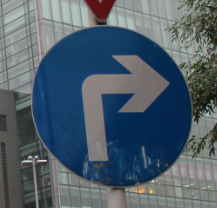right_turn: (32, 26, 193, 188)
